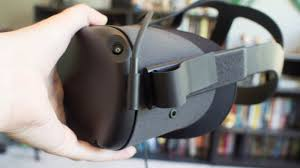oculus: (58, 15, 245, 151)
